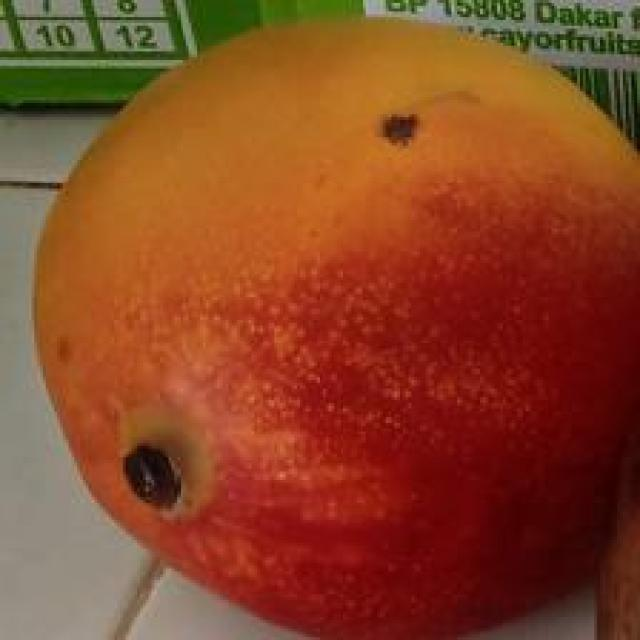Bad_Mango: (36, 21, 640, 640)
